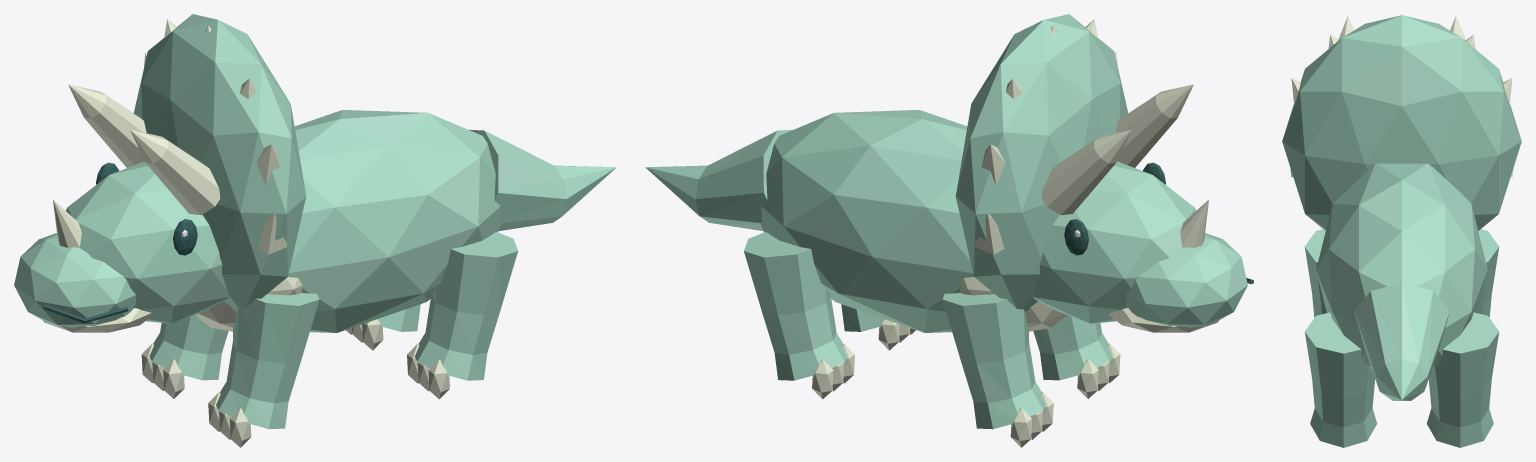
The model's file is triceratops.glb.
The picture shows the model from 3 angles, left to right: view 1: azimuth 30°, elevation 25°; view 2: azimuth 150°, elevation 25°; view 3: azimuth 270°, elevation 25°; orthographic projection. The views are drawn at different scales.
Visible parts, largest first — view 1: Body, Neck frill, Head, Rounded leg.002, Rounded leg, Soft muzzle, Tail, Brow horn, Rounded leg.001, Brow horn.001, Ivory chest, Ivory chin (+7 smaller); view 2: Body, Neck frill, Head, Rounded leg.003, Rounded leg.001, Soft muzzle, Tail, Brow horn.001, Rounded leg, Brow horn, Ivory chest, Ivory chin (+7 smaller); view 3: Neck frill, Body, Tail, Rounded leg.002, Rounded leg.003, Rounded leg, Rounded leg.001.
Boxes of the visible parts, x1,y1,x2,y2 form: Body: (288, 110, 501, 332); Neck frill: (133, 14, 306, 311); Head: (66, 161, 229, 323); Rounded leg.002: (414, 232, 517, 380); Rounded leg: (216, 293, 319, 429); Soft muzzle: (14, 233, 135, 327); Tail: (469, 129, 616, 231); Brow horn: (130, 129, 220, 215); Rounded leg.001: (149, 315, 228, 380); Brow horn.001: (68, 84, 146, 167); Ivory chest: (194, 277, 302, 331); Ivory chin: (42, 308, 152, 332); Body: (760, 110, 973, 332); Neck frill: (955, 14, 1128, 311); Head: (1032, 161, 1195, 323); Rounded leg.003: (744, 232, 847, 380); Rounded leg.001: (942, 293, 1045, 429); Soft muzzle: (1126, 233, 1247, 327); Tail: (645, 129, 793, 231); Brow horn.001: (1041, 129, 1131, 215); Rounded leg: (1033, 315, 1112, 380); Brow horn: (1115, 84, 1193, 167); Ivory chest: (959, 277, 1067, 331); Ivory chin: (1109, 308, 1219, 332); Neck frill: (1282, 15, 1521, 230); Body: (1316, 163, 1487, 369); Tail: (1354, 283, 1449, 400); Rounded leg.002: (1304, 312, 1377, 447); Rounded leg.003: (1426, 312, 1499, 447); Rounded leg: (1304, 229, 1326, 317); Rounded leg.001: (1477, 229, 1499, 317).
Bounding box in the file's own units: 3.7 × 2.33 × 1.48.
